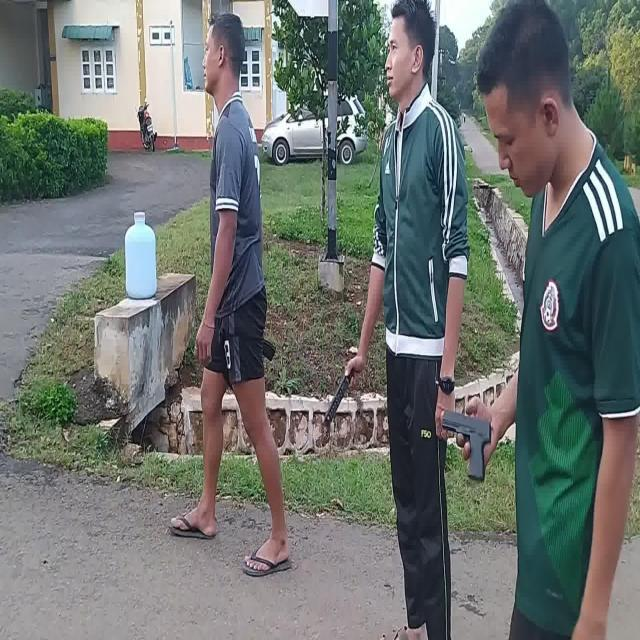gun: (442, 409, 492, 481), (262, 338, 276, 362)
